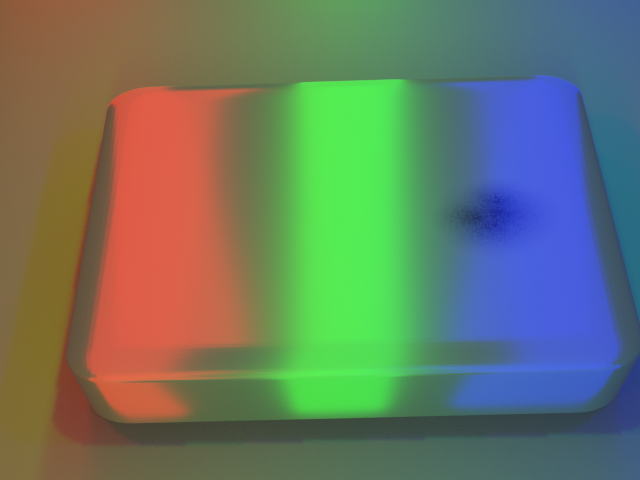stain: (414, 153, 615, 266)
